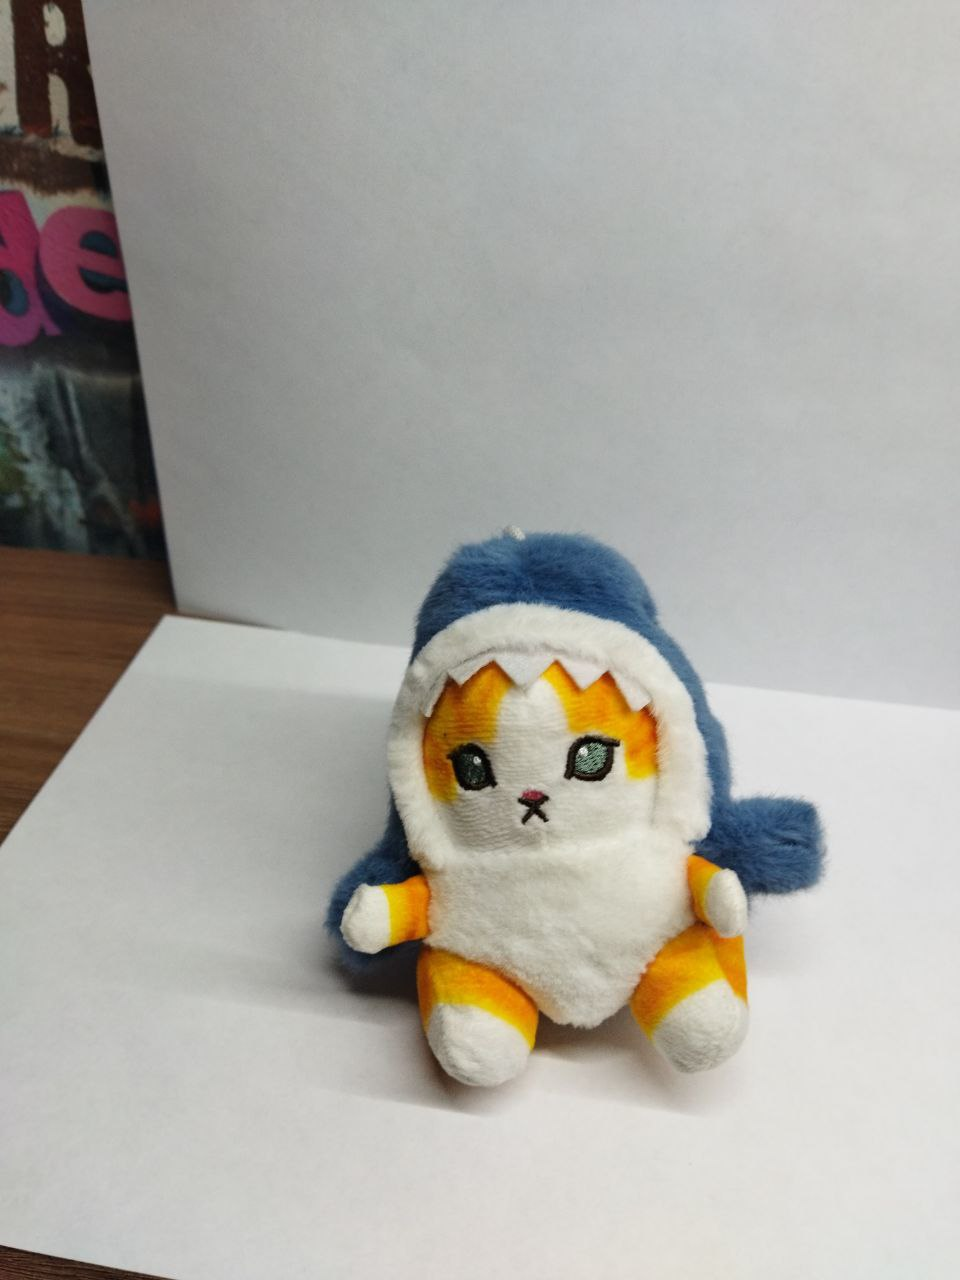Snark Cat: (328, 527, 823, 1092)
